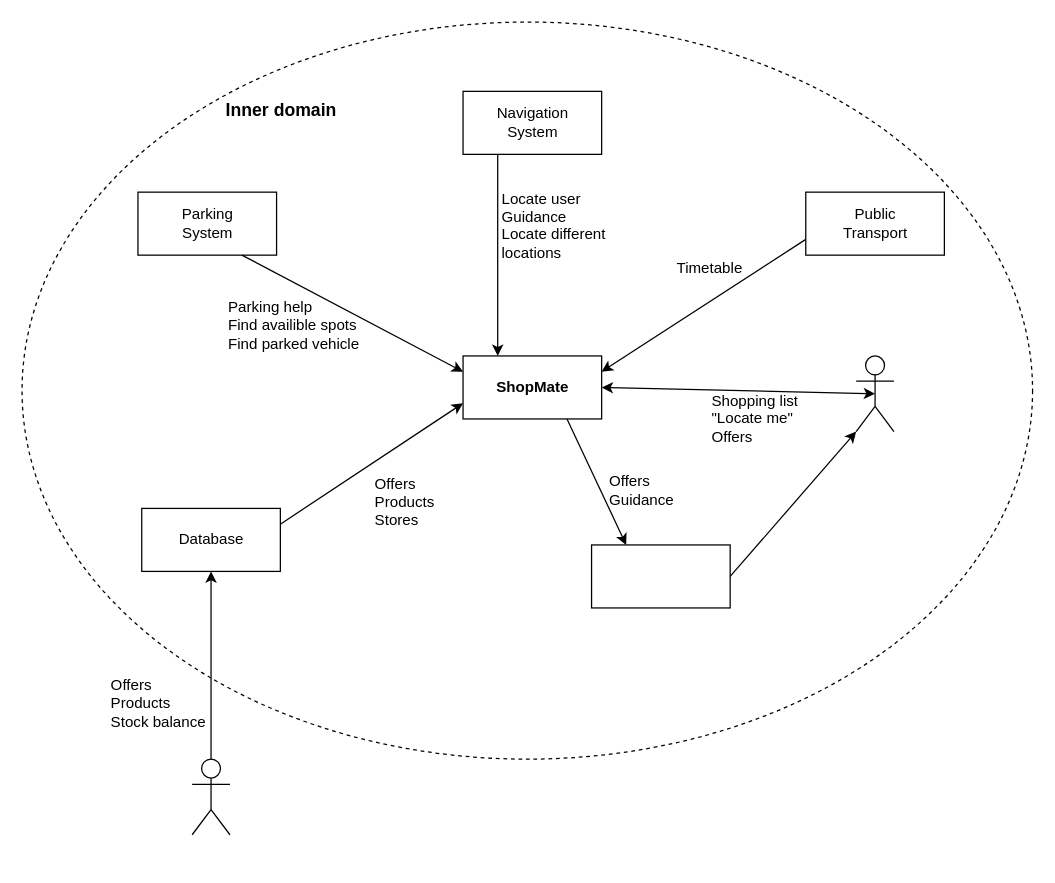
Image size: 1055x883. Some labels were removed from this diagram. Here are the shapes that lost their labels. From the top down, the box of each, then its label:
(855, 355, 894, 432): User
(590, 544, 730, 608): Smart-Watch
(191, 758, 230, 835): Salesperson
